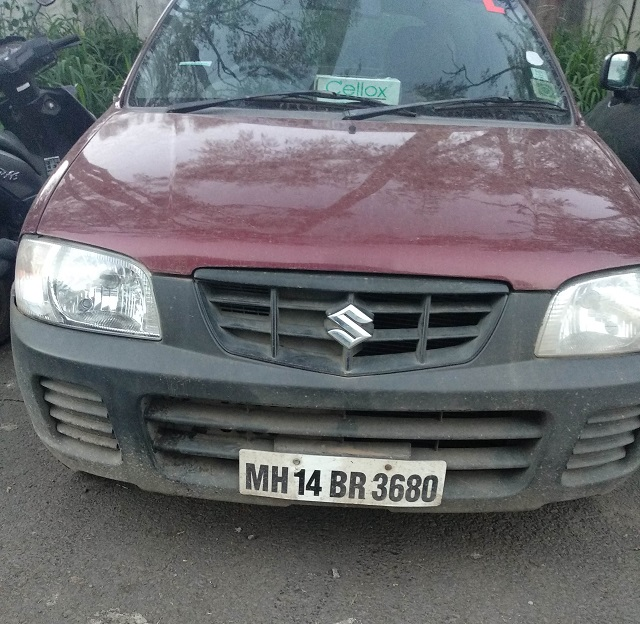licenseplate: (237, 445, 451, 510)
